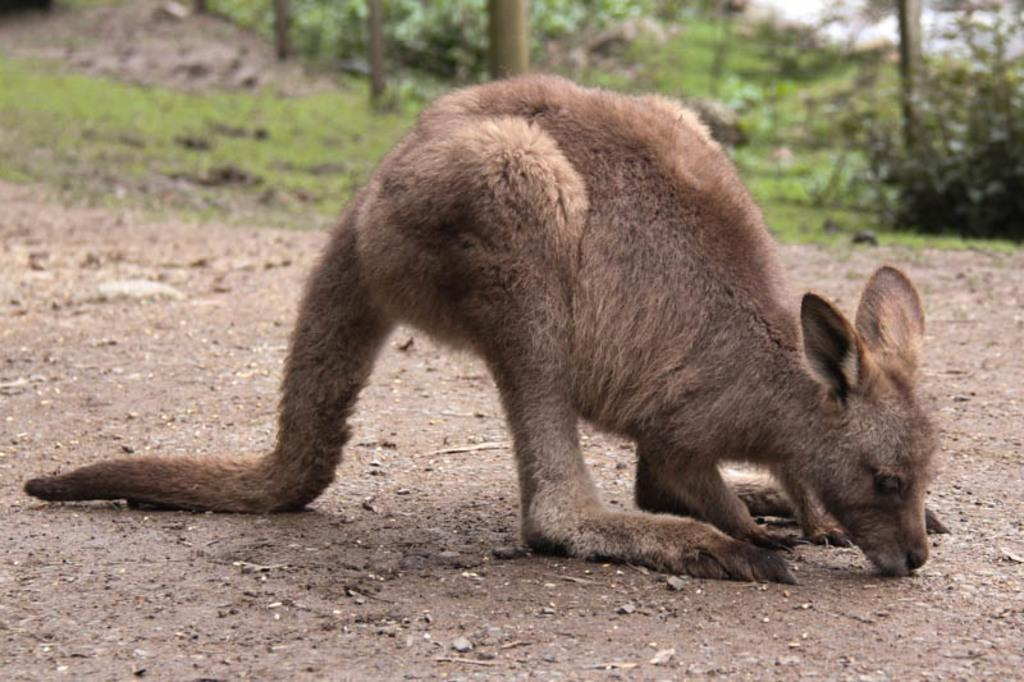kangaroo: (20, 71, 954, 588)
